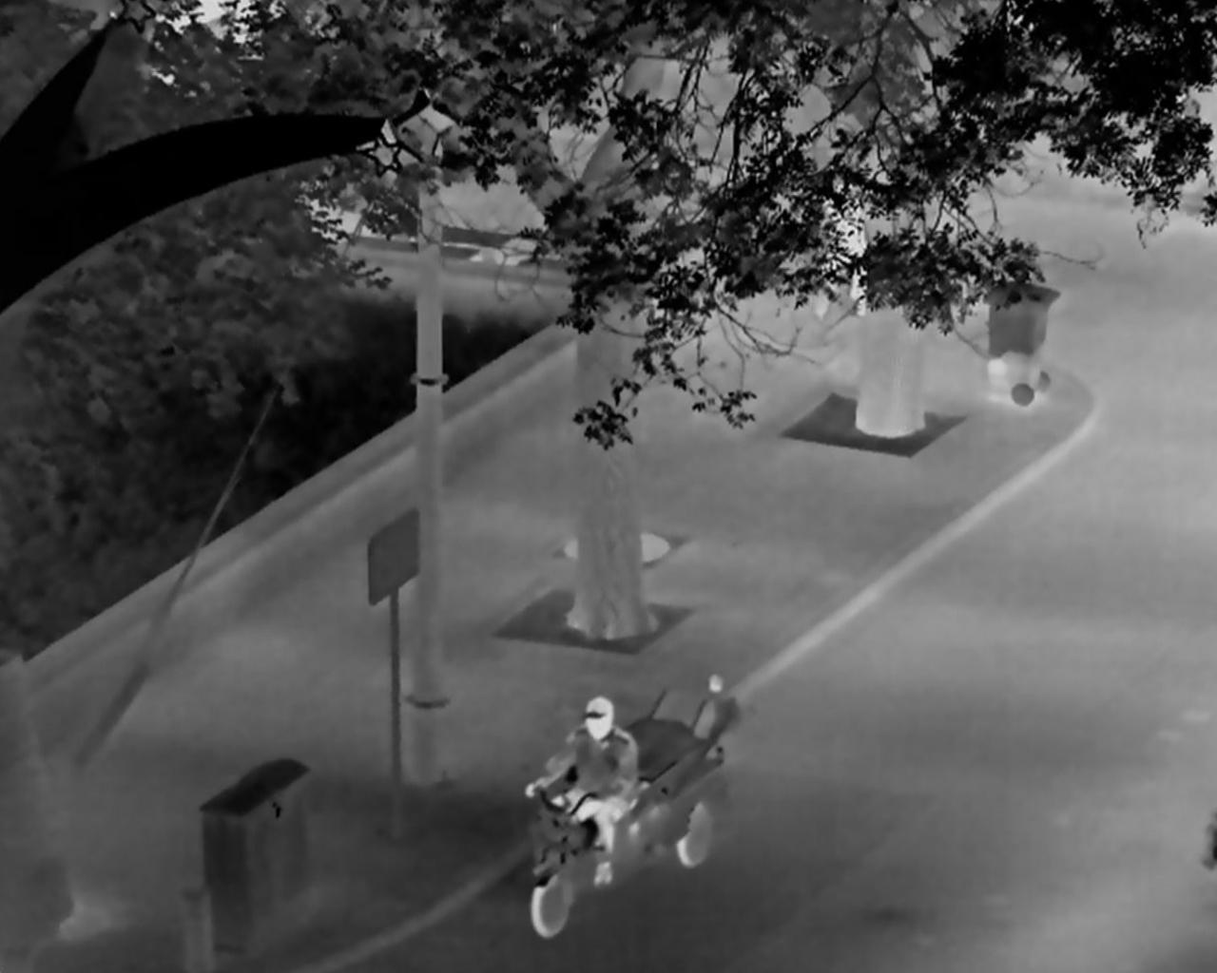person: (523, 696, 635, 887), (811, 162, 870, 319)
